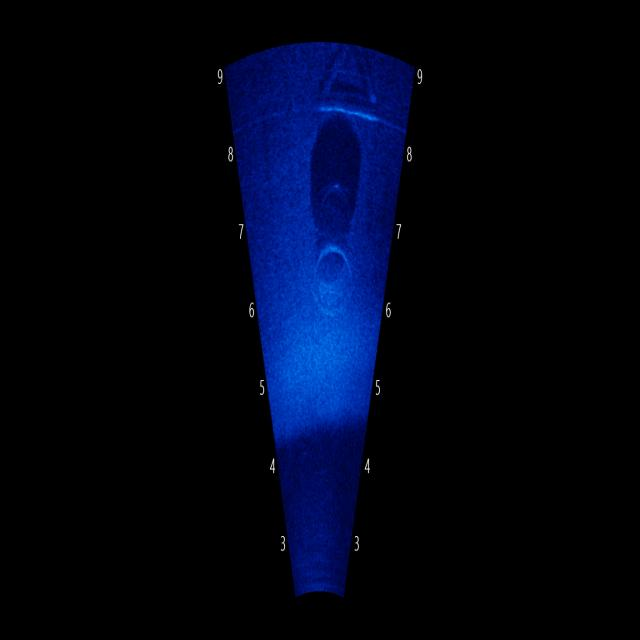circle: (297, 190, 364, 349)
